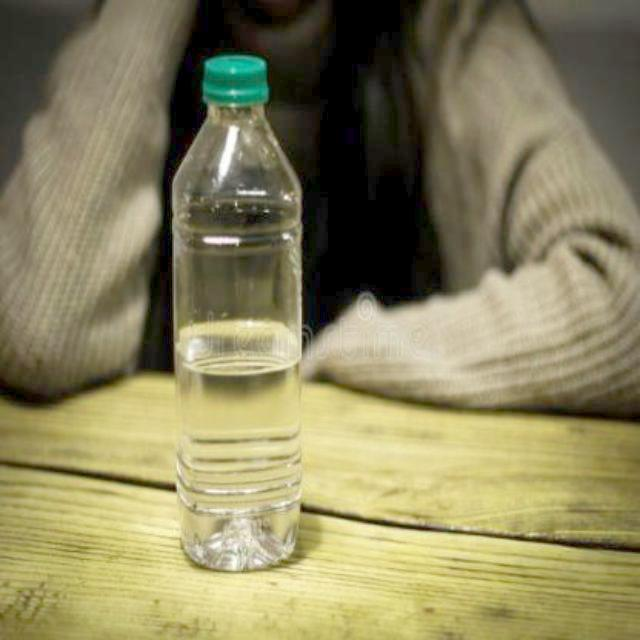bottle: (172, 56, 303, 572)
